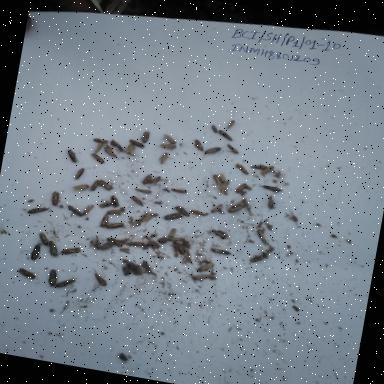pbw: (12, 264, 40, 284), (56, 242, 84, 261), (24, 203, 54, 220), (256, 180, 287, 196), (54, 273, 80, 292), (88, 266, 110, 288), (24, 241, 47, 262), (42, 237, 62, 258), (208, 244, 237, 258), (159, 208, 184, 224), (252, 226, 272, 246), (170, 182, 192, 200), (106, 136, 128, 154), (188, 270, 214, 285), (44, 266, 60, 290), (172, 203, 194, 220), (210, 226, 232, 243), (102, 235, 126, 250), (62, 202, 84, 218), (98, 143, 120, 159), (80, 200, 98, 219), (232, 180, 252, 197), (98, 237, 118, 254), (132, 184, 158, 197), (230, 161, 251, 177), (195, 259, 217, 274), (262, 194, 280, 212), (64, 146, 82, 164), (222, 116, 241, 133), (88, 232, 104, 252), (170, 240, 190, 256), (104, 204, 126, 218), (48, 188, 62, 210), (214, 128, 236, 142), (70, 180, 92, 194), (97, 176, 116, 192), (216, 176, 232, 195), (186, 207, 211, 219), (127, 194, 147, 209), (226, 202, 246, 217), (229, 197, 250, 211), (222, 142, 243, 156), (138, 127, 154, 145), (138, 208, 156, 224), (70, 165, 86, 183), (248, 252, 267, 267), (158, 140, 178, 154), (89, 152, 109, 166), (126, 138, 149, 150), (166, 232, 189, 244), (36, 230, 52, 247), (124, 238, 146, 250), (97, 214, 113, 230), (156, 150, 172, 166), (208, 201, 225, 216), (250, 160, 268, 174), (138, 172, 154, 187), (262, 162, 276, 179), (87, 176, 101, 193), (161, 132, 179, 145), (148, 173, 163, 188), (206, 122, 222, 136), (210, 173, 226, 187), (96, 196, 112, 210), (192, 138, 206, 154), (92, 138, 106, 154), (204, 144, 222, 156), (107, 220, 126, 231), (124, 142, 136, 158), (88, 136, 107, 146), (166, 225, 178, 240), (109, 194, 122, 207)
